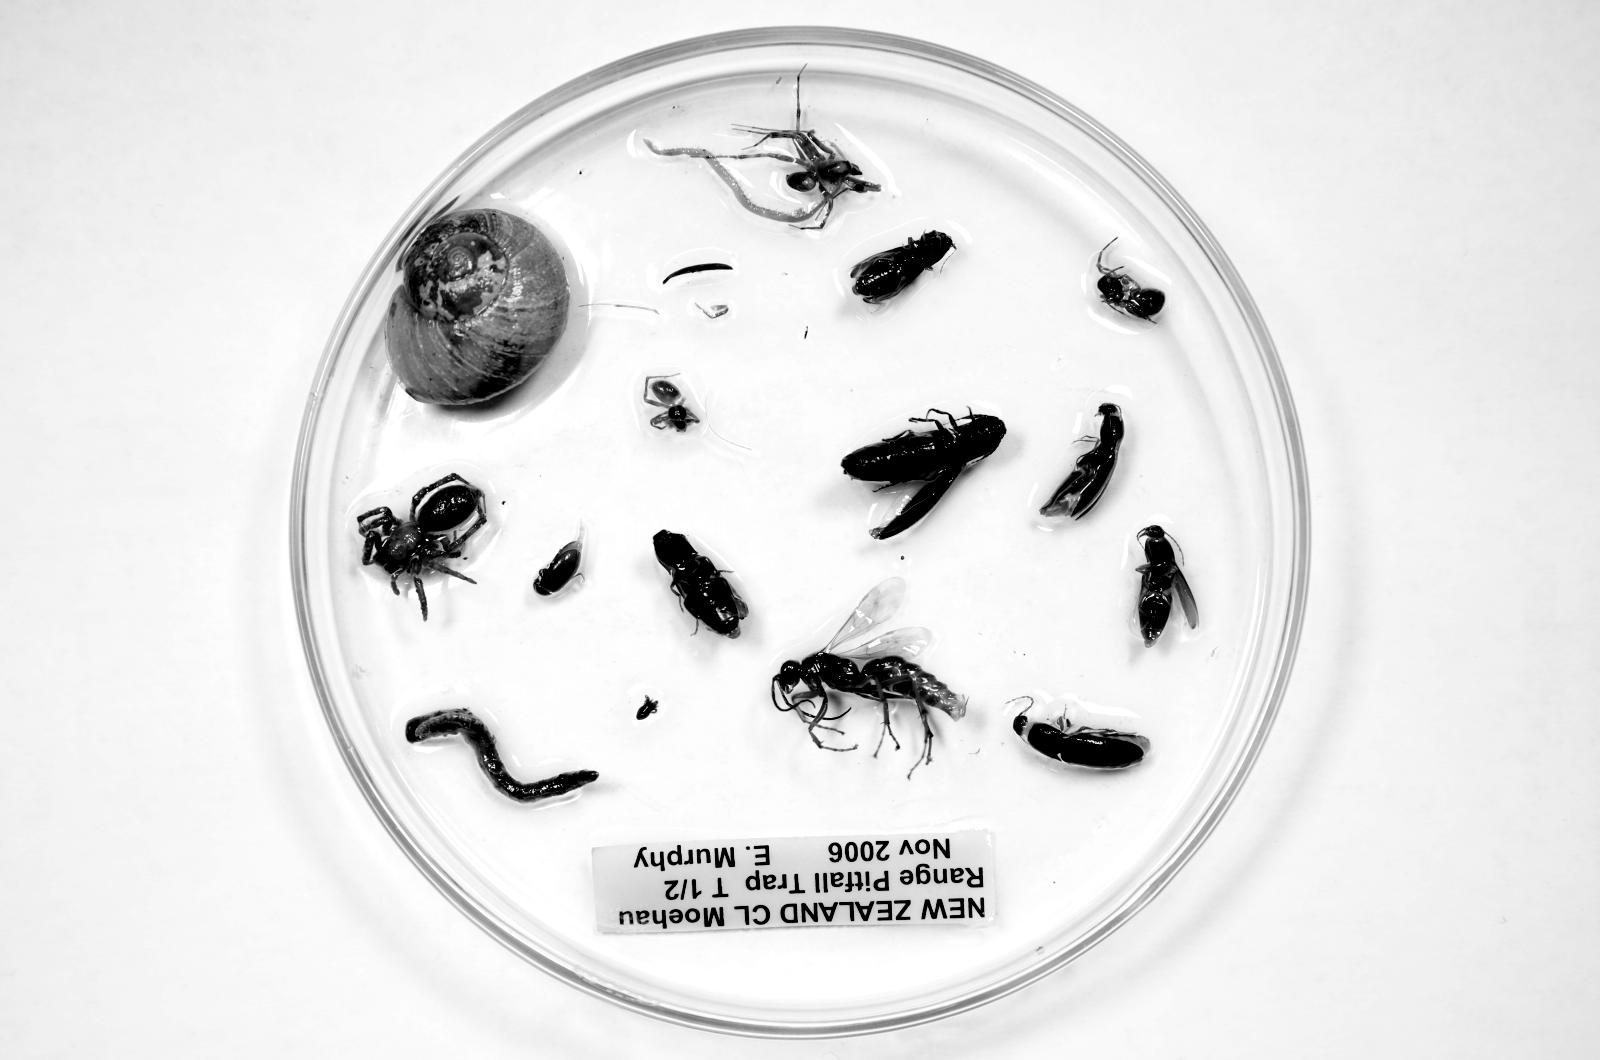annelida: (405, 708, 599, 803)
araneae: (358, 474, 487, 619), (758, 129, 881, 208), (1097, 242, 1165, 322), (644, 377, 700, 432)
chilopoda: (642, 138, 828, 230)
coleoptera: (842, 408, 1006, 539), (653, 530, 748, 639), (1040, 403, 1123, 519), (848, 230, 956, 305), (1013, 710, 1150, 769), (1136, 525, 1198, 646), (533, 532, 584, 596)
gastropoda: (386, 209, 569, 405)
hymenoptera: (772, 577, 966, 769)
